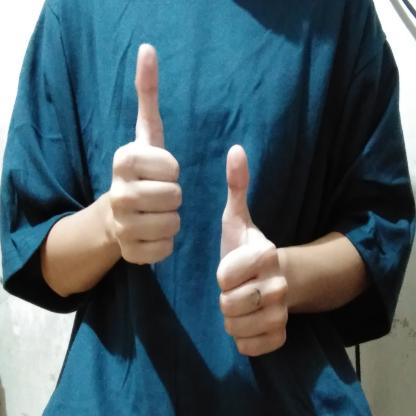which: (104, 37, 293, 366)
